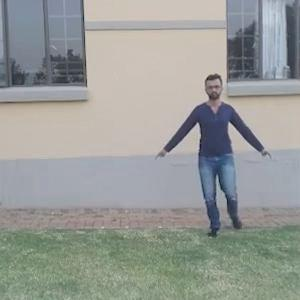land: (170, 81, 265, 226)
